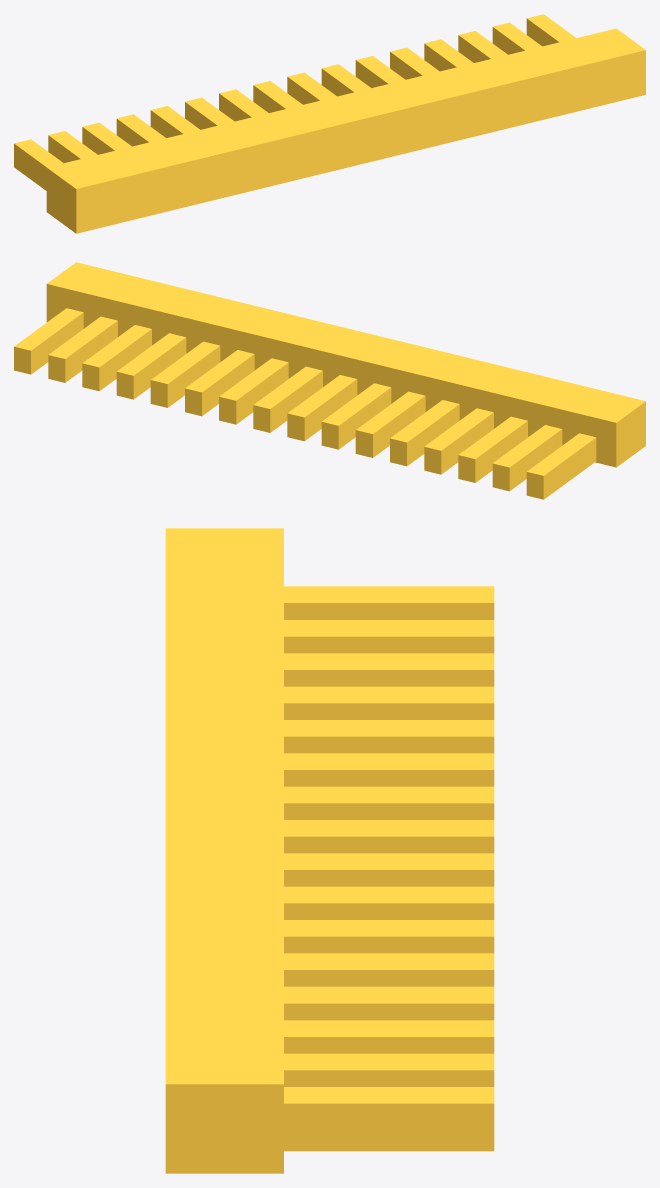
File: golden_comb.glb
The picture shows the model from 3 angles, top to bottom: view 1: azimuth 30°, elevation 25°; view 2: azimuth 150°, elevation 25°; view 3: azimuth 270°, elevation 25°; orthographic projection. The views are drawn at different scales.
Visible parts, largest first — view 1: spine_gold, teeth_gold; view 2: teeth_gold, spine_gold; view 3: teeth_gold, spine_gold.
Part boxes in pixels (x1,y1,x2,y2): spine_gold: (46,28,645,233); teeth_gold: (14,14,576,190); teeth_gold: (14,308,596,499); spine_gold: (46,262,645,467); teeth_gold: (284,586,494,1151); spine_gold: (165,528,283,1173).
Size of the model in its own units: 0.2 by 0.015 by 0.05.
